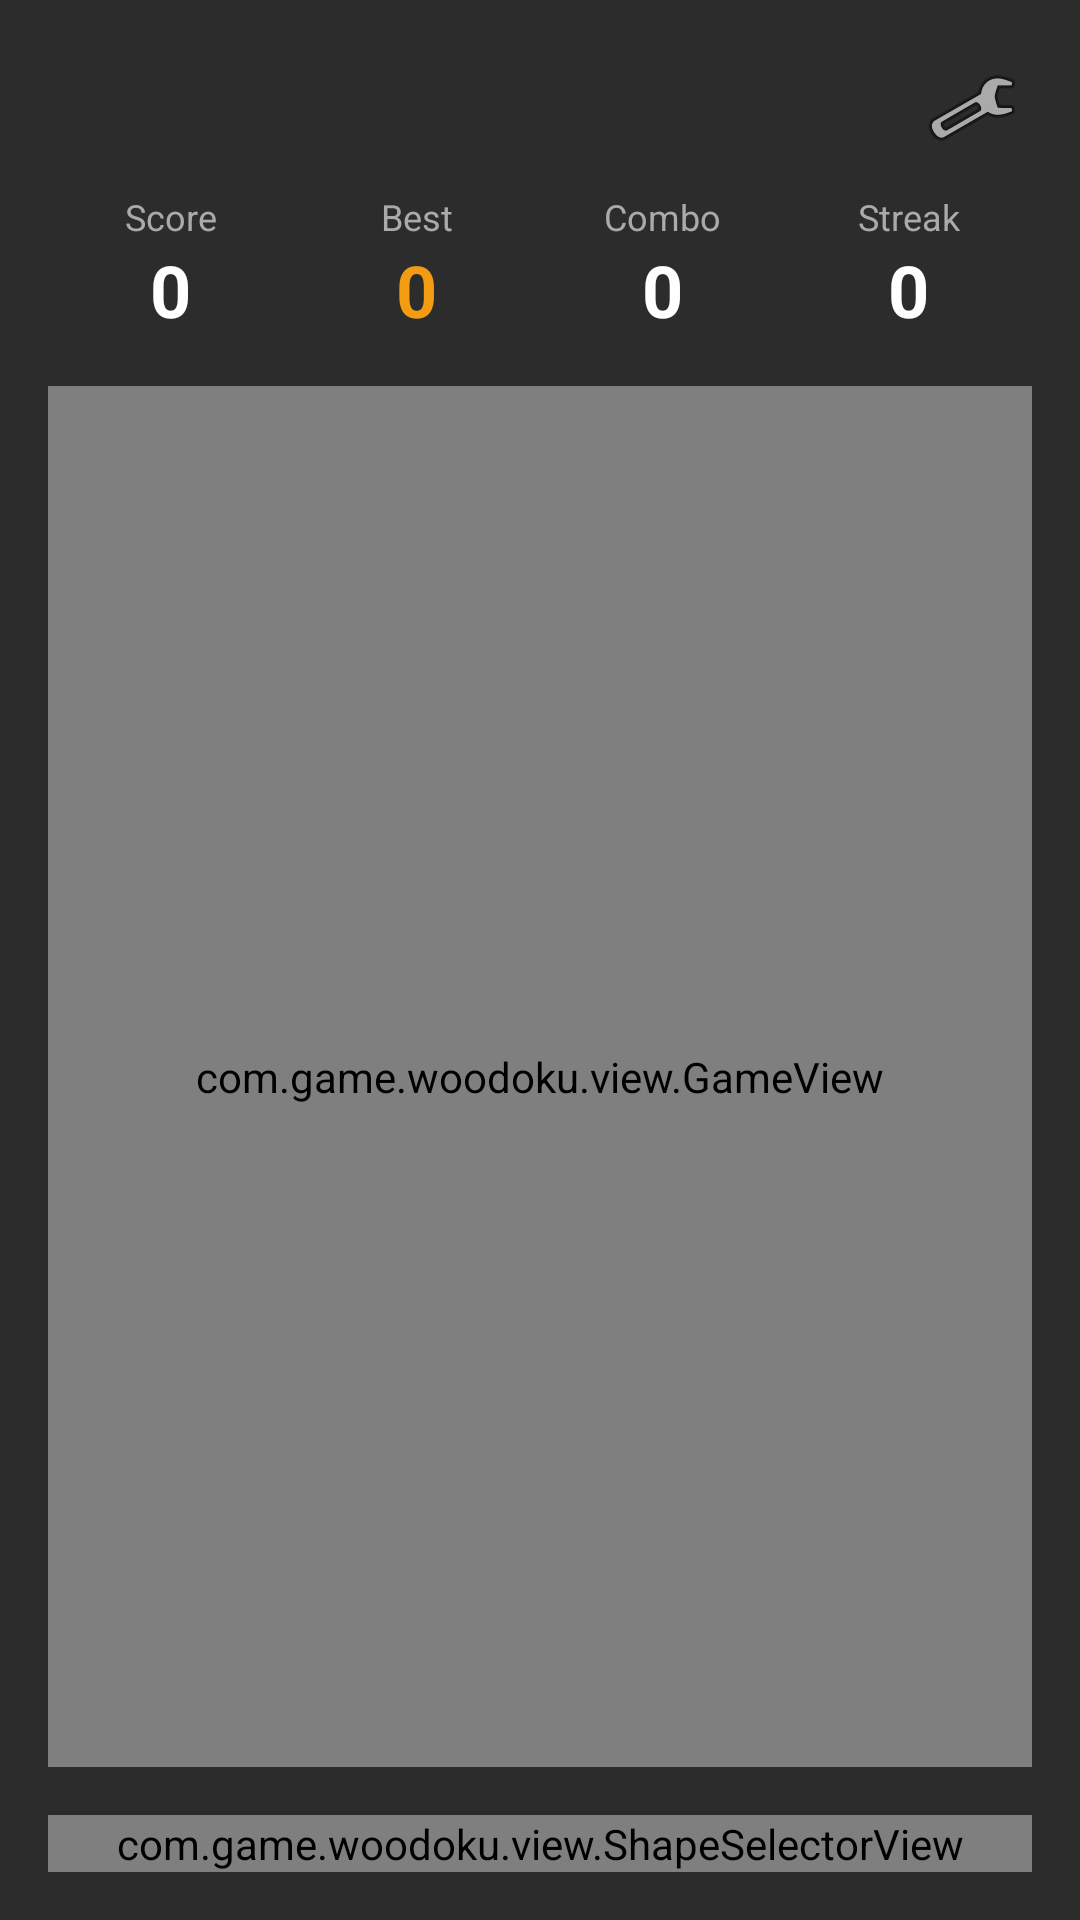

Icons on this 1080w x 1920h Android screen, each with the point to tap as [x,y]:
preferences: [972,108]
